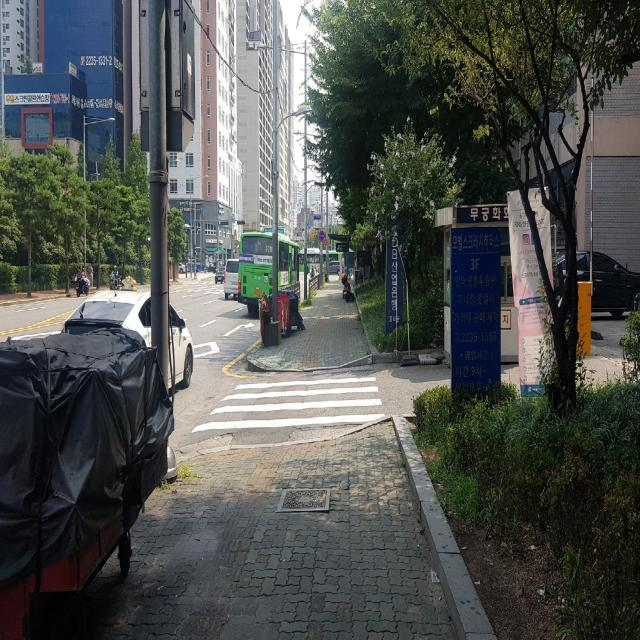횡단보도: (191, 377, 385, 433)
